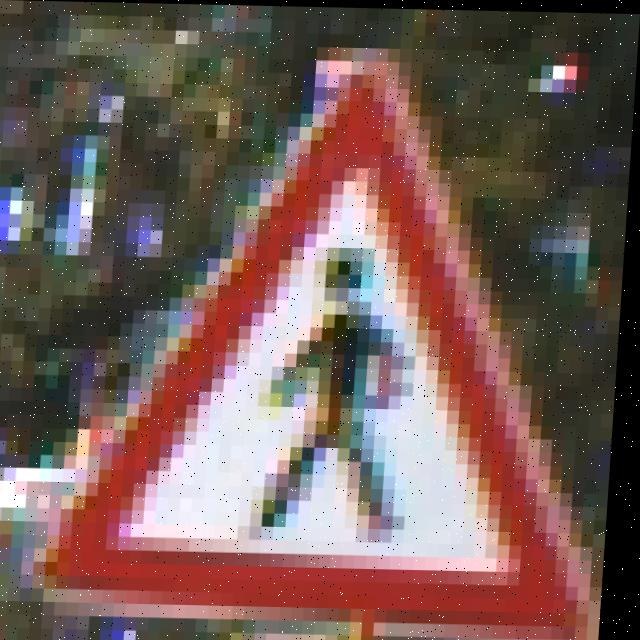crosswalk: (72, 65, 602, 616)
